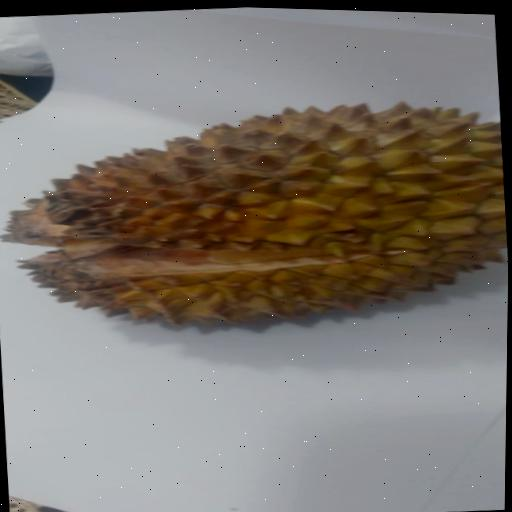rot: (0, 73, 511, 363)
